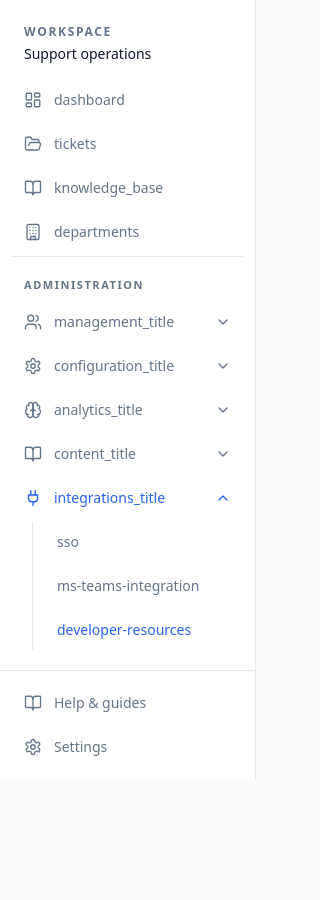
keeps admin destinations grouped and reveals the selected group
What coordinates should you click on to do the following:
click the button "configuration_title"
I would click on:
 (128, 366)
Its box is [12,346,243,386].
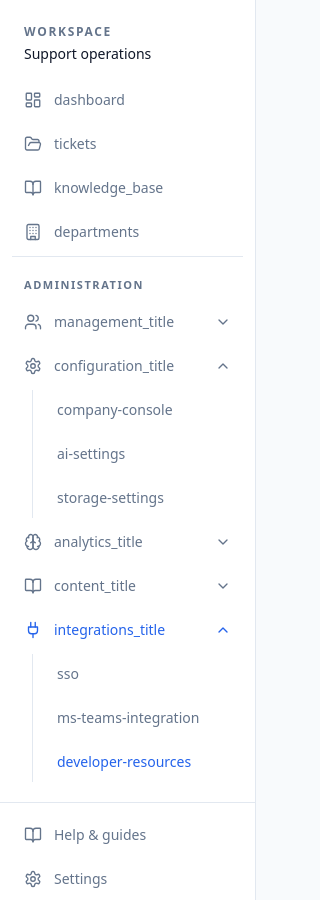
Expected: the link "company-console" is shown, [57,400,173,418]
